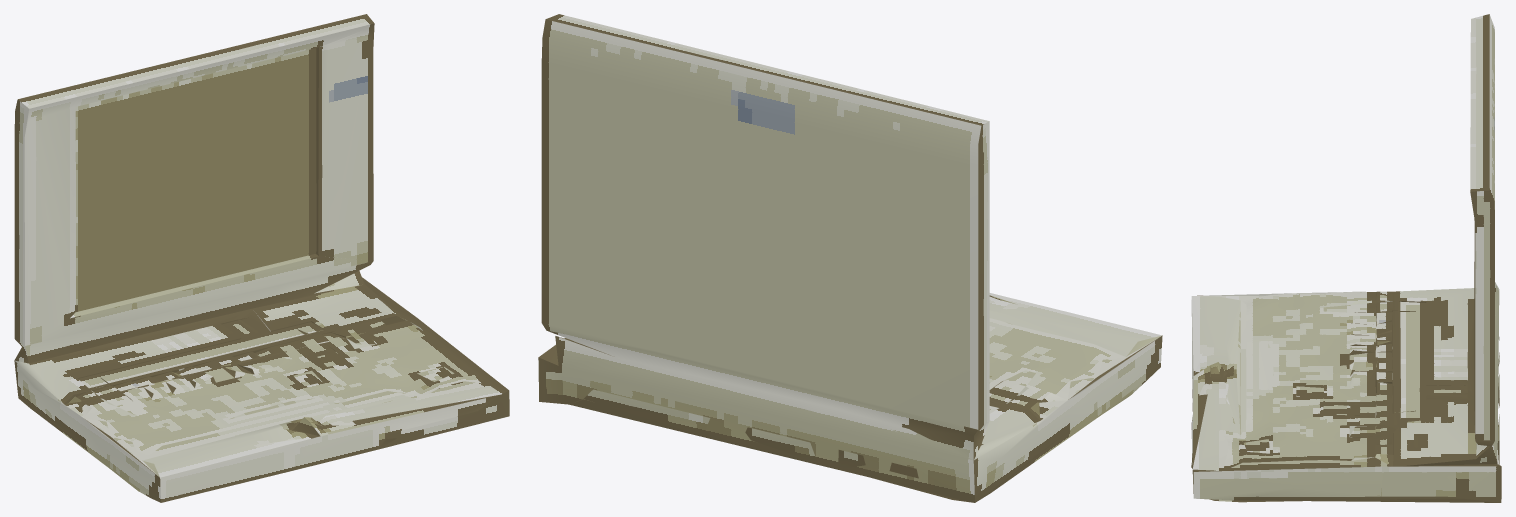
The model's file is classic_laptop.glb.
The picture shows the model from 3 angles, left to right: view 1: azimuth 30°, elevation 25°; view 2: azimuth 150°, elevation 25°; view 3: azimuth 270°, elevation 25°; orthographic projection. The views are drawn at different scales.
Parts seen in each view (by area): view 1: mesh; view 2: mesh; view 3: mesh.
Boxes of the visible parts, <box> form: mesh: <box>14,14,509,502</box>; mesh: <box>538,14,1162,502</box>; mesh: <box>1191,14,1501,502</box>.
Bounding box in the file's own units: 0.6501 × 0.5428 × 0.4808.
Materials: 1 (1 with a texture image).
